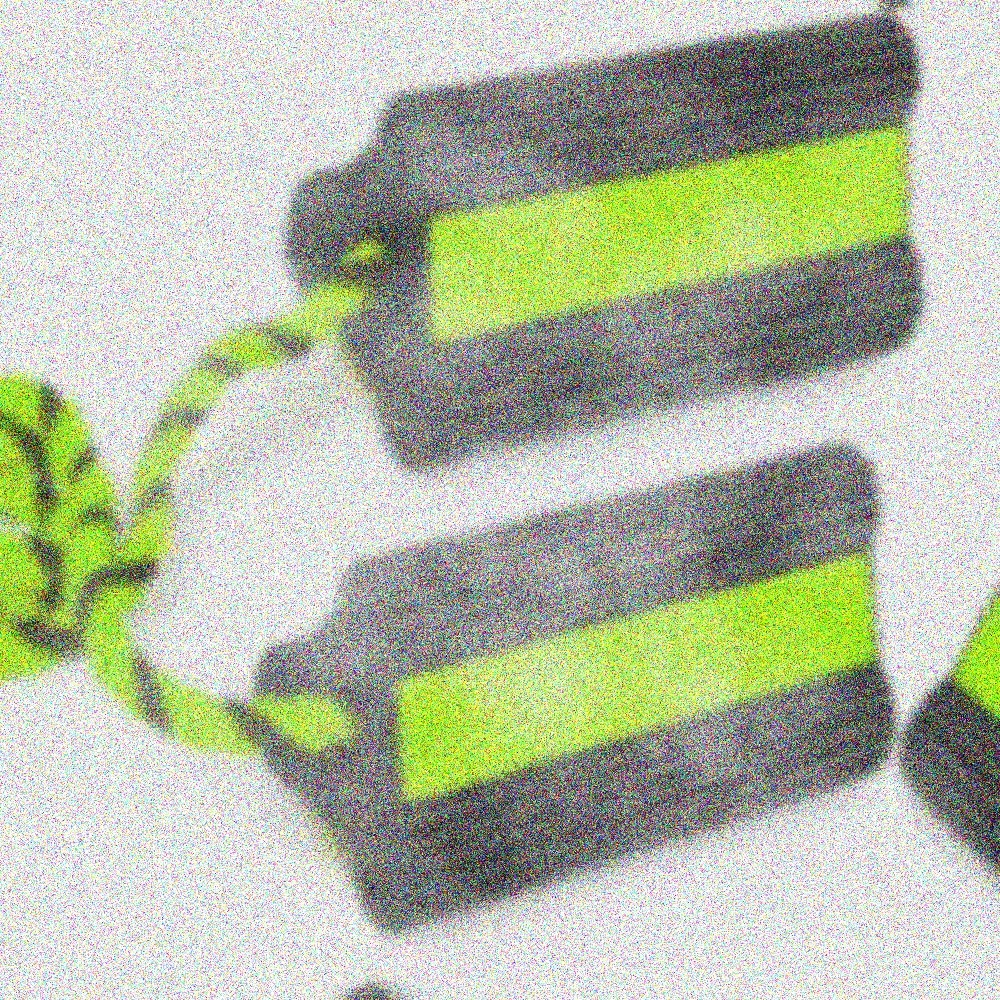chock: (202, 318, 961, 1000), (231, 0, 987, 572)
